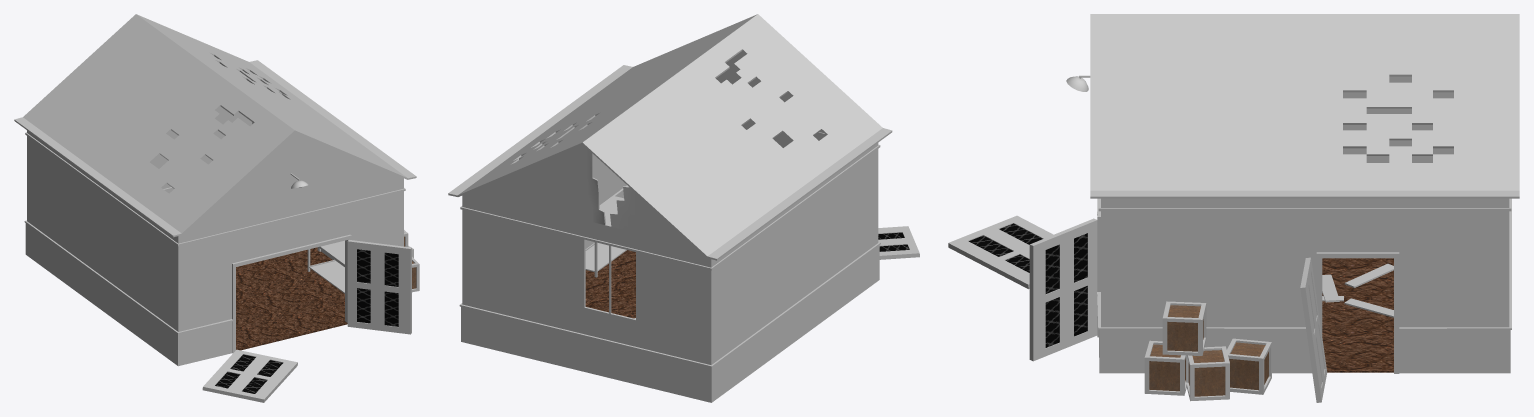
File: shed_obj.obj
3 renders of one model, left to right at view 1: azimuth 30°, elevation 25°; view 2: azimuth 150°, elevation 25°; view 3: azimuth 270°, elevation 25°, orthographic. The views are drawn at different scales.
Parts seen in each view (by area): view 1: Cube.018, Entrance, Right_wall, Floor, Brick, Cube.050, Cube.051, Cube.022, Cube.025, Cube.027, Cube.024, Cube.020 (+10 smaller); view 2: Cube.018, Exit, Right_wall, Brick, Cube.022, Floor, Cube.025, Cube.027, Exit.001, Cube.024, Cube.020, Cube.026 (+10 smaller); view 3: Cube.018, Left_wall, Brick, Cube.050, Cube.021, Floor, Cube.019, Cube.023, Cube.051, Cube.033, Cube.036, Cube.055 (+9 smaller).
Boxes of the visible parts, x1,y1,x2,y2 form: Cube.018: [14, 14, 416, 237]; Entrance: [178, 132, 403, 331]; Right_wall: [27, 130, 178, 331]; Floor: [236, 247, 347, 350]; Brick: [24, 187, 334, 366]; Cube.050: [347, 240, 411, 334]; Cube.051: [202, 349, 297, 402]; Cube.022: [131, 97, 254, 196]; Cube.025: [100, 157, 181, 219]; Cube.027: [119, 82, 211, 165]; Cube.024: [200, 71, 275, 128]; Cube.020: [25, 132, 405, 246]; Cube.018: [448, 14, 892, 260]; Exit: [462, 144, 711, 364]; Right_wall: [711, 143, 878, 364]; Brick: [459, 185, 880, 402]; Cube.022: [705, 49, 831, 165]; Floor: [585, 250, 635, 318]; Cube.025: [772, 124, 862, 193]; Cube.027: [683, 83, 784, 174]; Exit.001: [586, 148, 635, 232]; Cube.024: [668, 29, 751, 92]; Cube.020: [460, 132, 880, 270]; Cube.026: [742, 42, 841, 130]; Cube.018: [1090, 14, 1519, 198]; Left_wall: [1101, 198, 1509, 327]; Brick: [1097, 198, 1511, 373]; Cube.050: [1029, 218, 1097, 361]; Cube.021: [1310, 14, 1453, 66]; Floor: [1322, 258, 1393, 372]; Cube.019: [1343, 66, 1453, 162]; Cube.023: [1310, 163, 1453, 190]; Cube.051: [948, 215, 1053, 289]; Cube.033: [1310, 66, 1342, 162]; Cube.036: [1343, 66, 1411, 154]; Cube.055: [1162, 301, 1206, 355].
Size of the model in its own units: 8.77 by 6.38 by 11.45.
14 materials, 6 textured.
